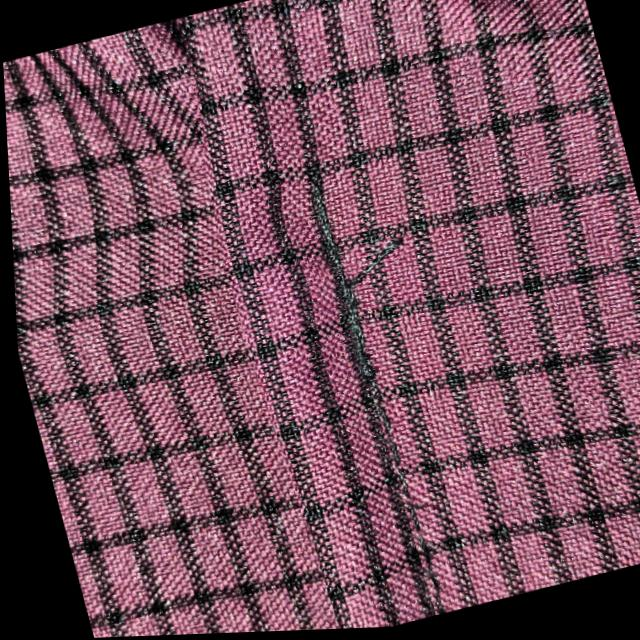Stitch: (274, 194, 476, 329)
